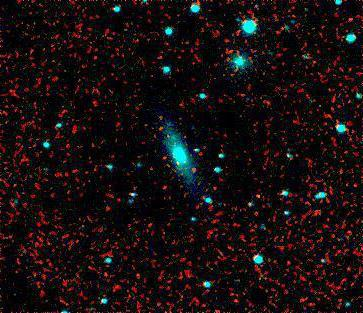star: (303, 198, 333, 228)
